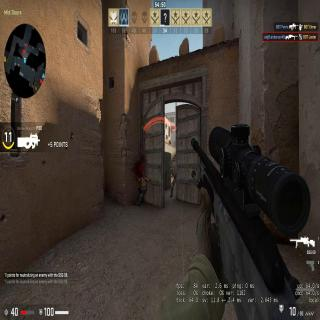T-Body: (169, 162, 177, 197), (168, 140, 172, 144)
T-Head: (173, 163, 175, 168), (170, 139, 170, 142)
